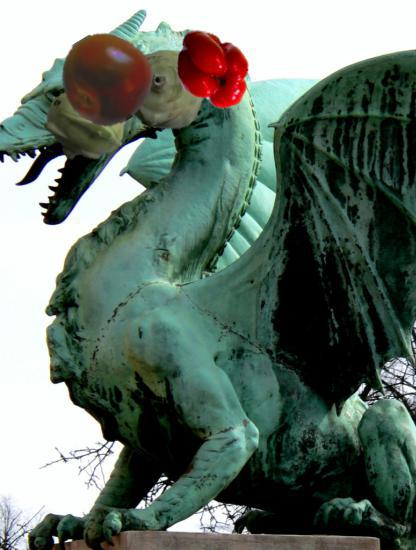Kohlrabi: (116, 41, 208, 133), (44, 82, 127, 165)
Pepper: (175, 32, 251, 108)
Tomato: (60, 32, 154, 126)
